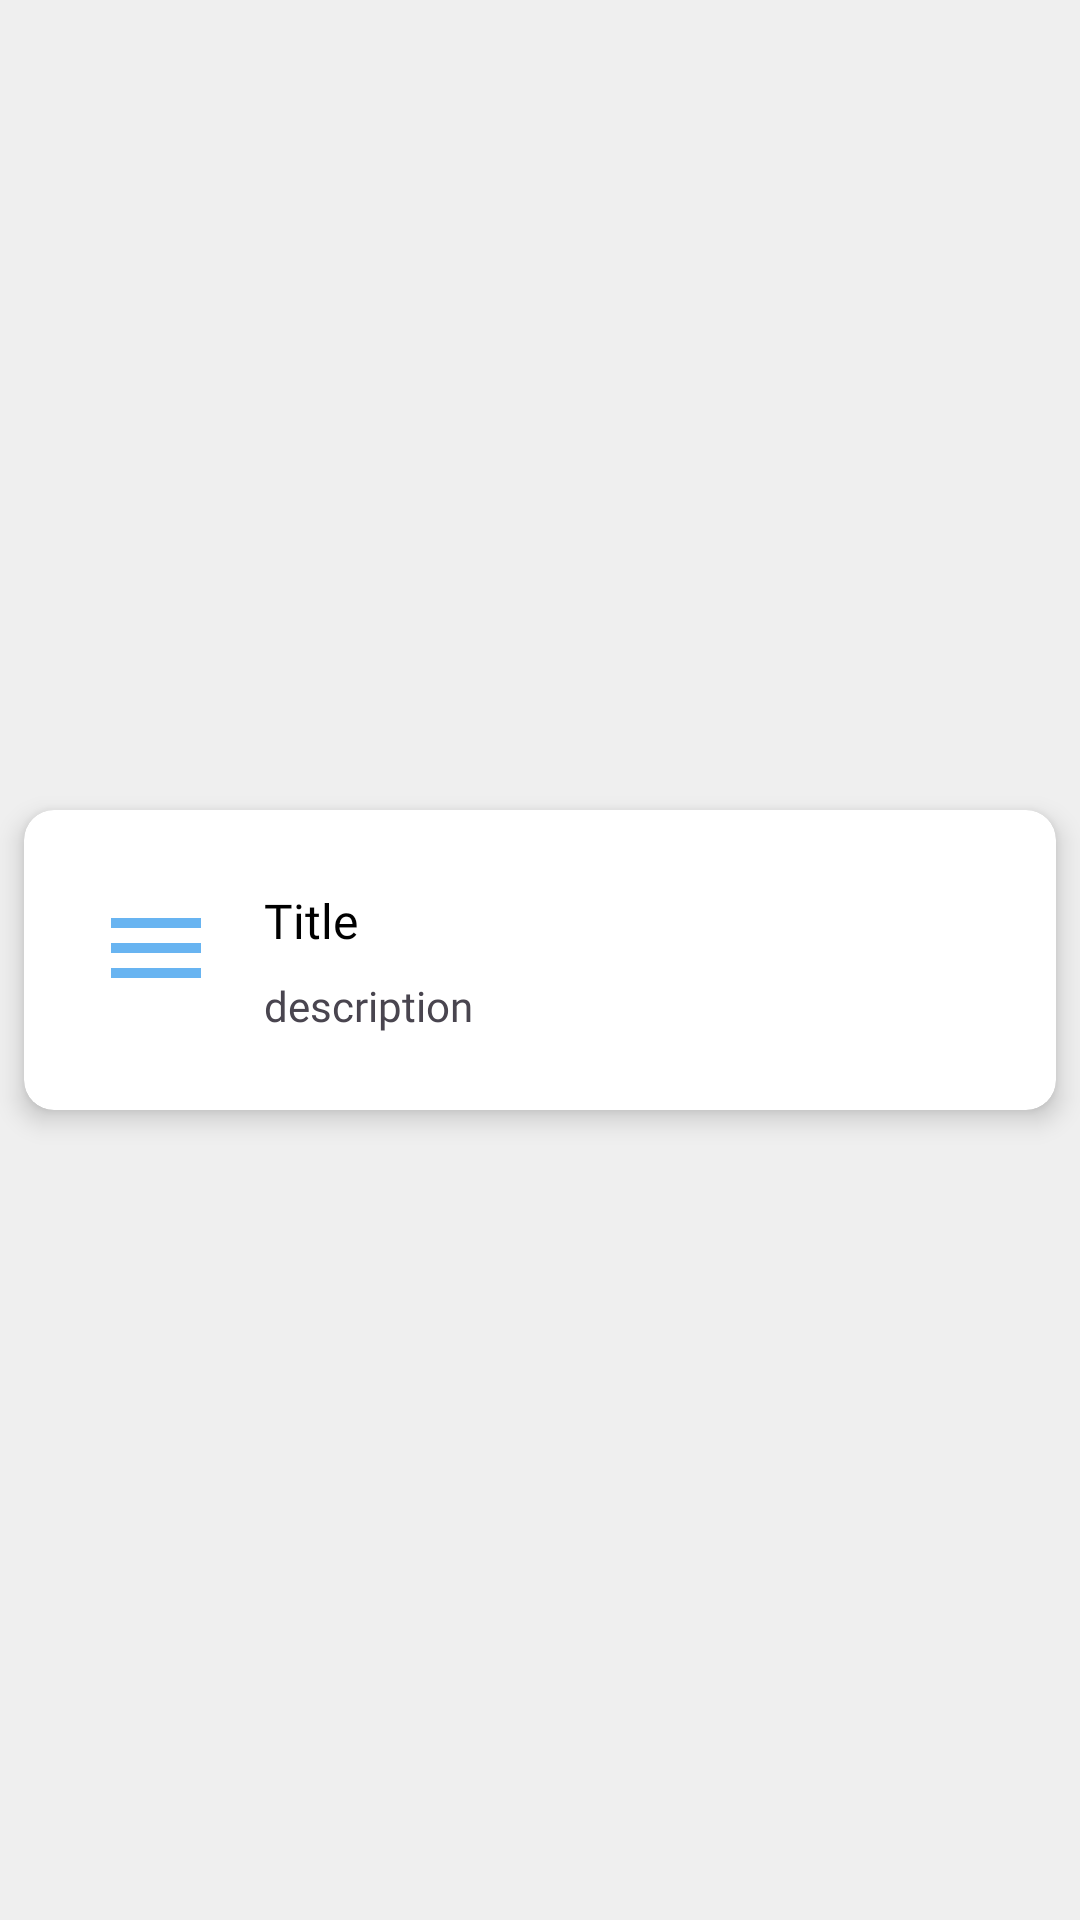

Icon click points for this 1080w x 1920h phone screenshot, format (x=x, y=y):
categories: (x=156, y=948)
